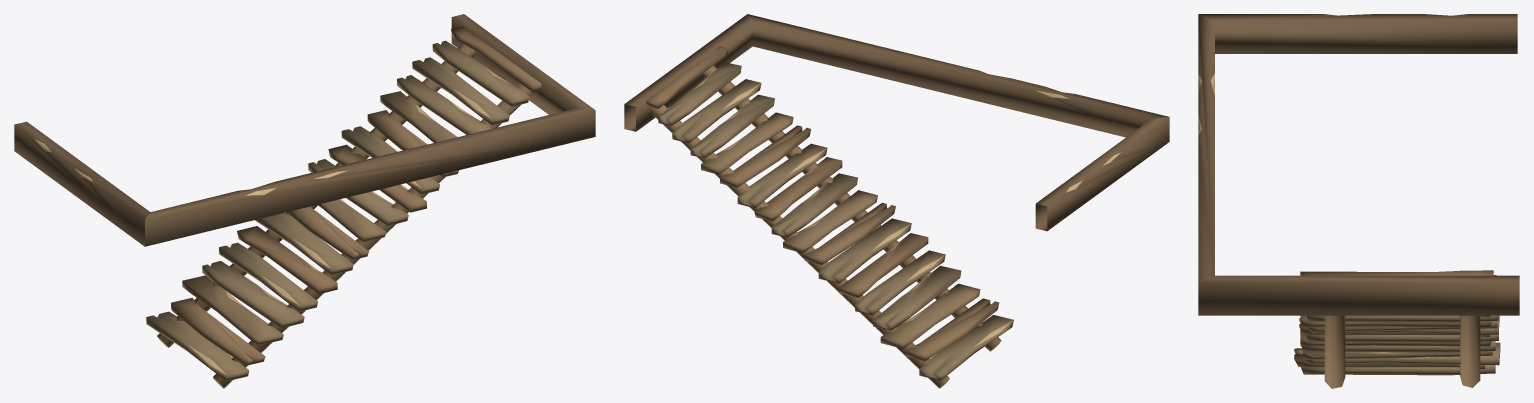
File: rpgpp_ag_stairs_interior_01a_3m.fbx
3 views of the same model, side by side, from view 1: azimuth 30°, elevation 25°; view 2: azimuth 150°, elevation 25°; view 3: azimuth 270°, elevation 25° (orthographic). The views are drawn at different scales.
Visible parts, largest first — view 1: rpgpp_ag_stairs_interior_01a_3m; view 2: rpgpp_ag_stairs_interior_01a_3m; view 3: rpgpp_ag_stairs_interior_01a_3m.
Part boxes in pixels (x1,y1,x2,y2): rpgpp_ag_stairs_interior_01a_3m: (14,14,595,388); rpgpp_ag_stairs_interior_01a_3m: (624,14,1169,388); rpgpp_ag_stairs_interior_01a_3m: (1198,14,1519,388).
Bounding box in the file's own units: 6.22 × 3.18 × 3.14.
